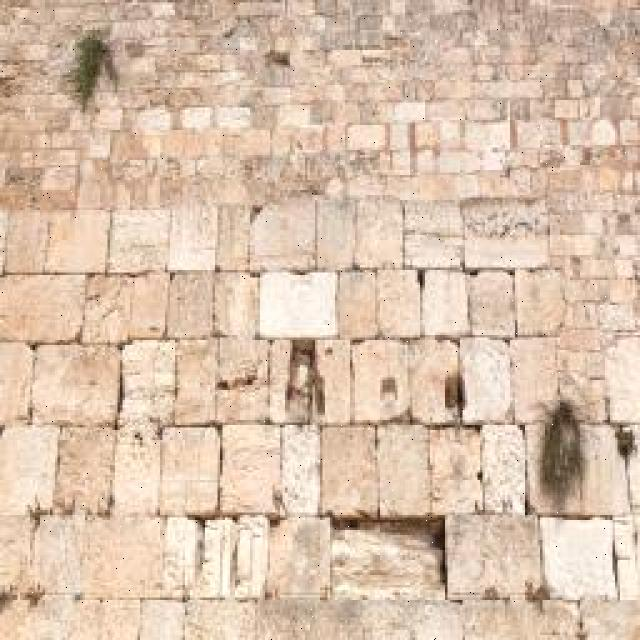vegetation: (61, 29, 118, 113)
